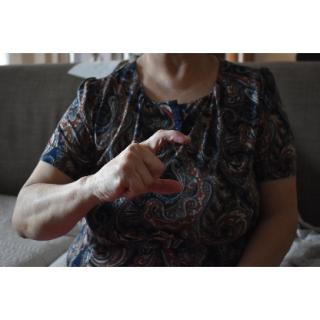DELL: (91, 125, 192, 207)
